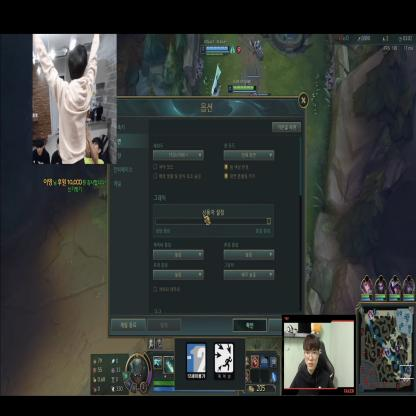donation: (32, 34, 116, 192)
streamer: (289, 334, 335, 388)
